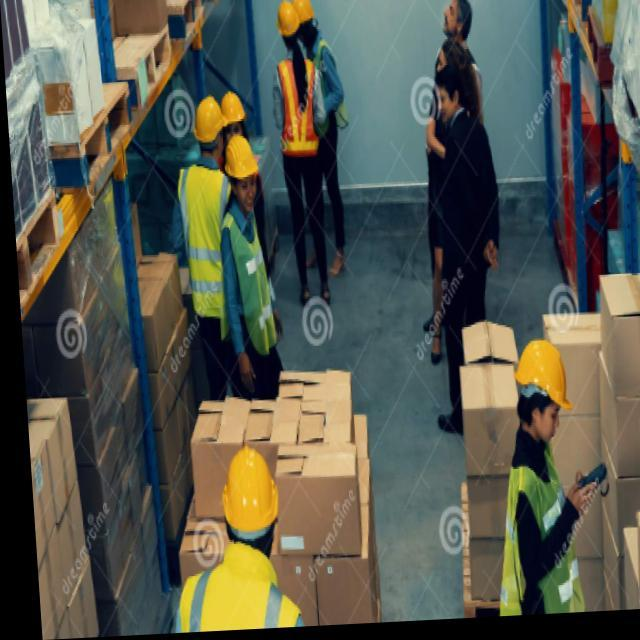boots: (298, 283, 334, 310)
helmet: (216, 442, 284, 556), (508, 336, 577, 443), (221, 134, 262, 209), (189, 92, 231, 160), (219, 89, 249, 145), (275, 0, 303, 51), (289, 0, 318, 41)
vest: (487, 437, 587, 617), (175, 538, 308, 633), (177, 160, 242, 323), (218, 202, 282, 360), (275, 54, 323, 161), (307, 37, 352, 140)
